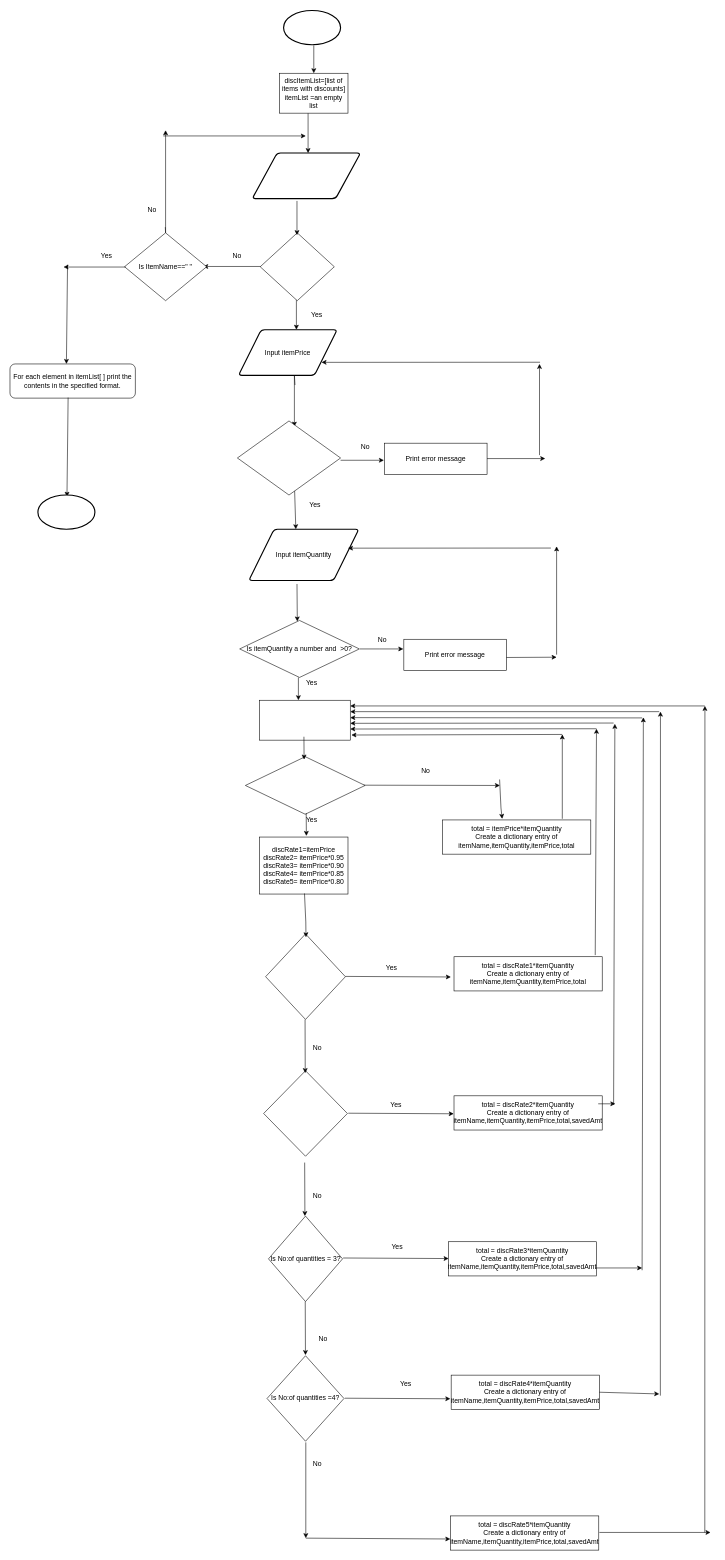
Some shapes in this 725 by 1560 pixel diagram are drawn without their labels. The shapes that lost their labels are listed below. From the top down, each one's box as (x1, y1, x2, y2) in pixels, then its label:
(283, 10, 341, 45): START
(251, 152, 361, 199): Input itemName
(260, 232, 334, 301): Is itemName a string?
(237, 420, 341, 495): Is itemPrice a number and >0?
(37, 494, 95, 530): STOP
(259, 700, 350, 740): itemList.append=[entries are the dictionary]
(245, 756, 365, 814): isitemName in discItemList?
(265, 933, 345, 1019): Is No: of quantities=1?
(263, 1070, 347, 1156): Is No:of quantities = 2?
